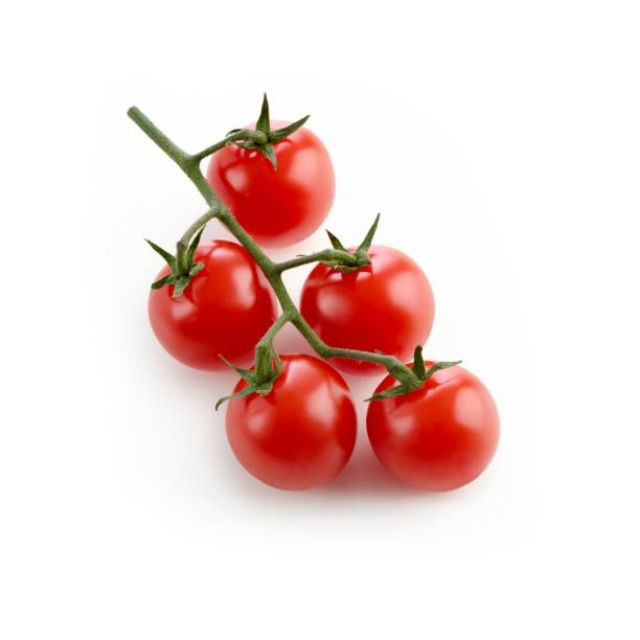tomato: (218, 338, 357, 496), (142, 230, 284, 359), (367, 361, 503, 488), (207, 118, 338, 244), (304, 247, 434, 371)
